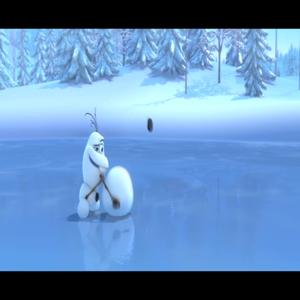olaf: (78, 99, 137, 226)
